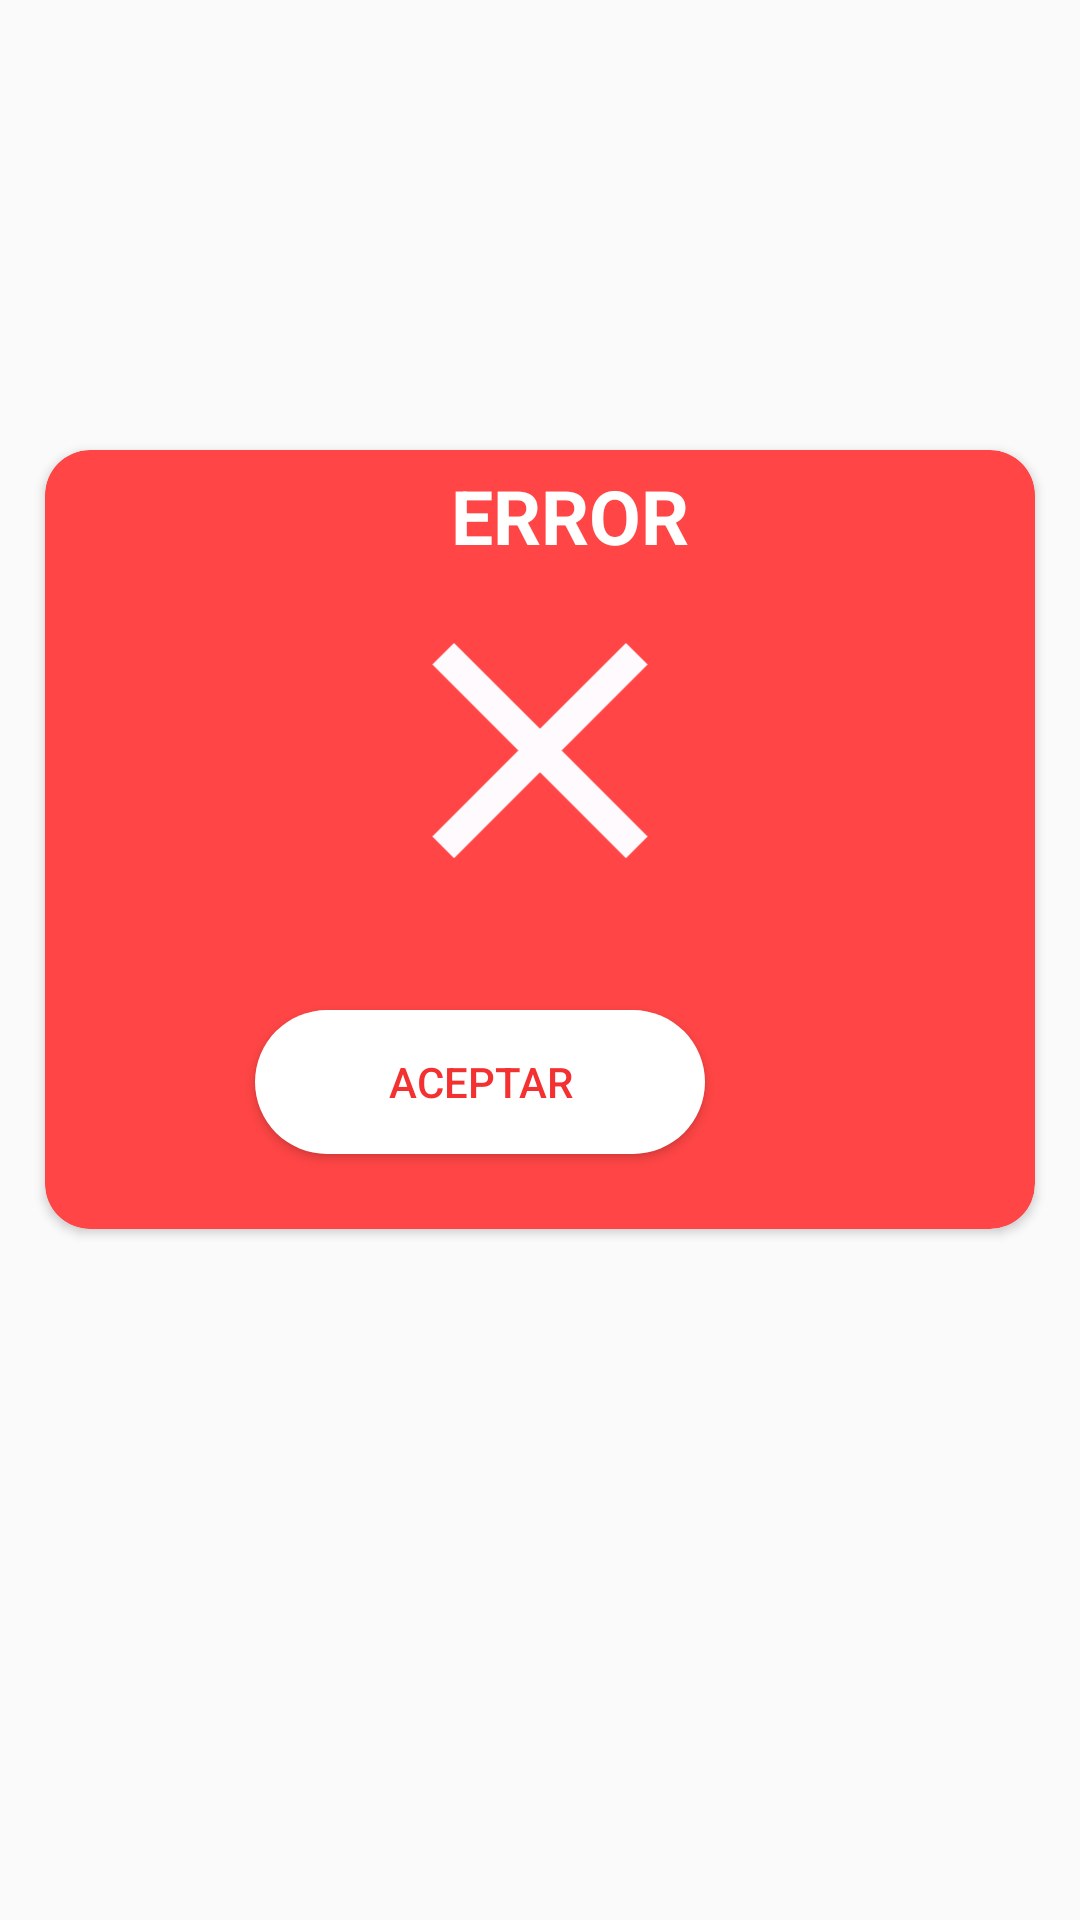

Where icons sit on this 1080w x 1920h app screen, as rect(x1, y1, x2, y2):
close: rect(432, 643, 648, 858)
